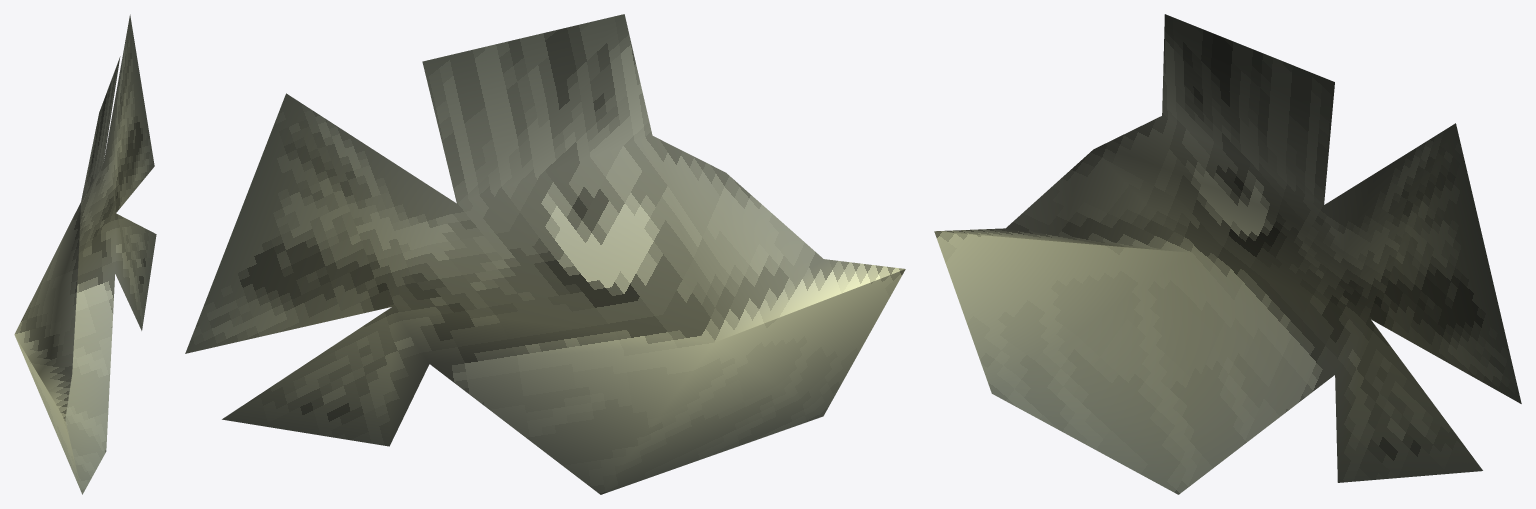
File: object_11_lev2.glb
3 renders of one model, left to right at view 1: azimuth 30°, elevation 25°; view 2: azimuth 150°, elevation 25°; view 3: azimuth 270°, elevation 25°, orthographic. The views are drawn at different scales.
Visible parts, largest first — view 1: object_11_lev2; view 2: object_11_lev2; view 3: object_11_lev2.
Part boxes in pixels (<box>): object_11_lev2: <box>14,14,156,494</box>; object_11_lev2: <box>185,14,905,494</box>; object_11_lev2: <box>934,14,1521,494</box>.
Bounding box in the file's own units: 0.5849 × 0.635 × 0.7152.
1 material, 1 textured.
